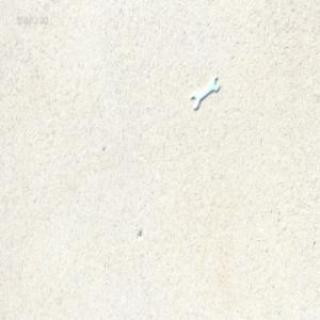Wrenchtrack_idkeyframe: (188, 74, 217, 109)
